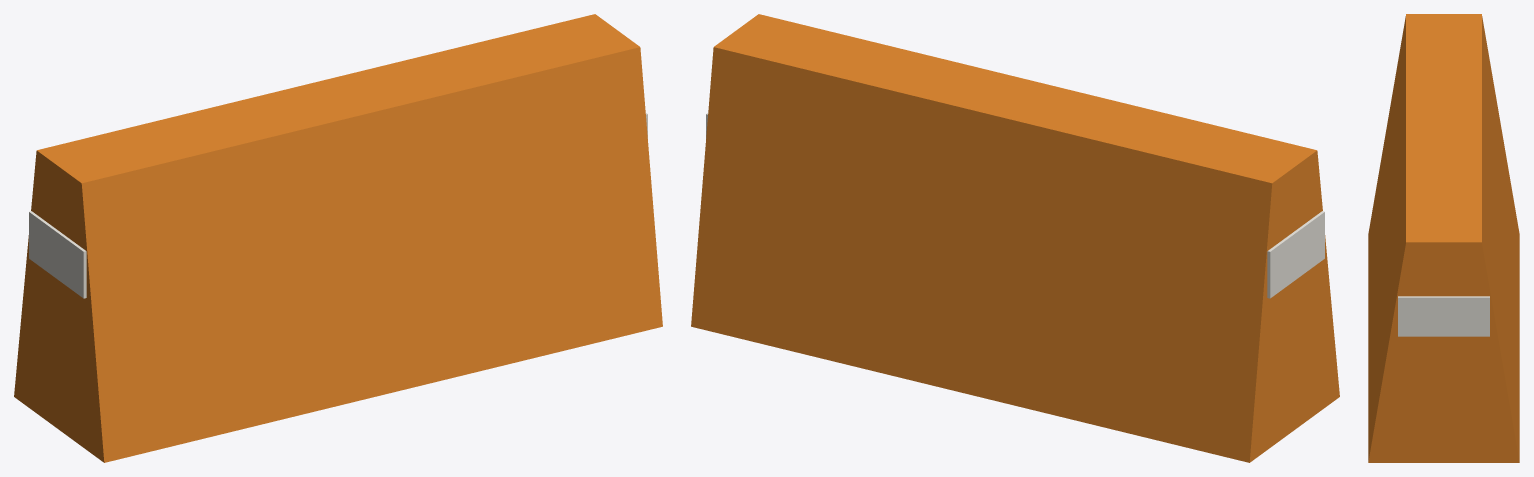
Rendered from barrier_plastic.glb.
The picture shows the model from 3 angles, left to right: view 1: azimuth 30°, elevation 25°; view 2: azimuth 150°, elevation 25°; view 3: azimuth 270°, elevation 25°; orthographic projection. The views are drawn at different scales.
Parts seen in each view (by area): view 1: barrier_plastic; view 2: barrier_plastic; view 3: barrier_plastic.
Part boxes in pixels (left/top/right/bottom): barrier_plastic: left=14, top=14, right=662, bottom=462; barrier_plastic: left=691, top=14, right=1339, bottom=462; barrier_plastic: left=1368, top=14, right=1519, bottom=462.
Bounding box in the file's own units: 2.02 × 0.9 × 0.56.
